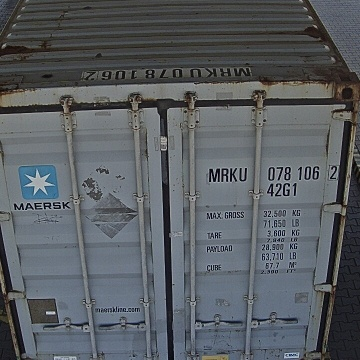serial_id: (209, 166, 338, 182)
